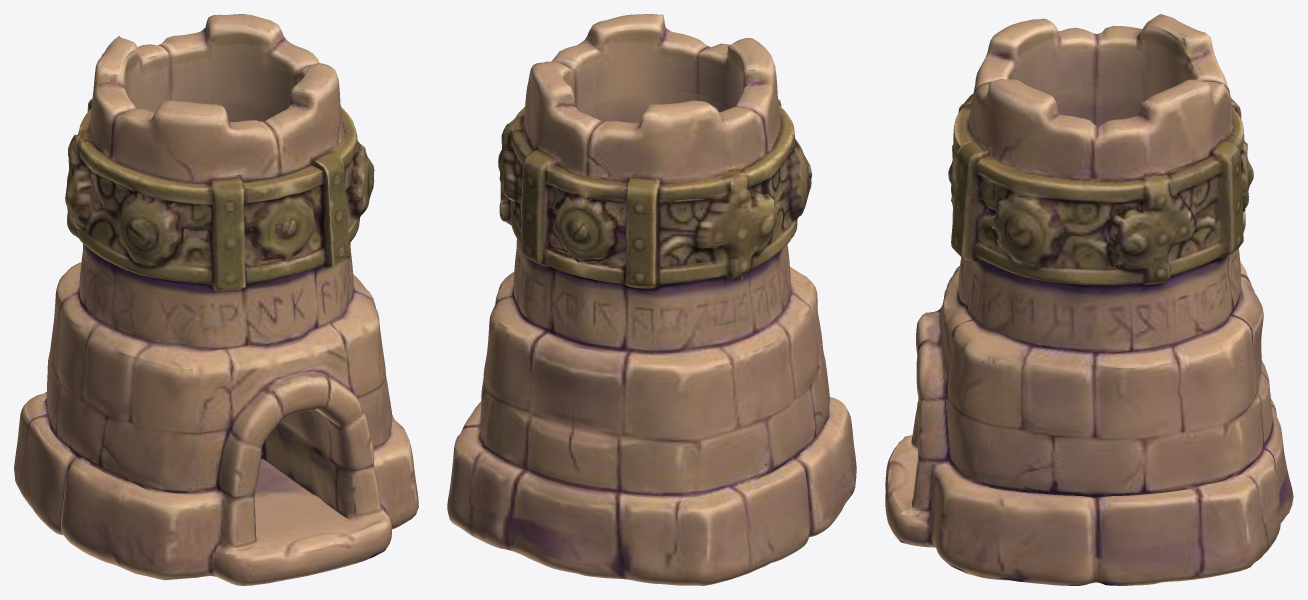
Rendered from beacon_01.glb.
The picture shows the model from 3 angles, left to right: view 1: azimuth 30°, elevation 25°; view 2: azimuth 150°, elevation 25°; view 3: azimuth 270°, elevation 25°; orthographic projection. The views are drawn at different scales.
Parts seen in each view (by area): view 1: beacon_01_mesh_01; view 2: beacon_01_mesh_01; view 3: beacon_01_mesh_01.
Part boxes in pixels (bbox=[...]): beacon_01_mesh_01: bbox=[14, 14, 418, 585]; beacon_01_mesh_01: bbox=[447, 14, 856, 585]; beacon_01_mesh_01: bbox=[885, 14, 1293, 585].
Size of the model in its own units: 1.47 by 1.91 by 1.56.
Materials: 1 (1 with a texture image).
